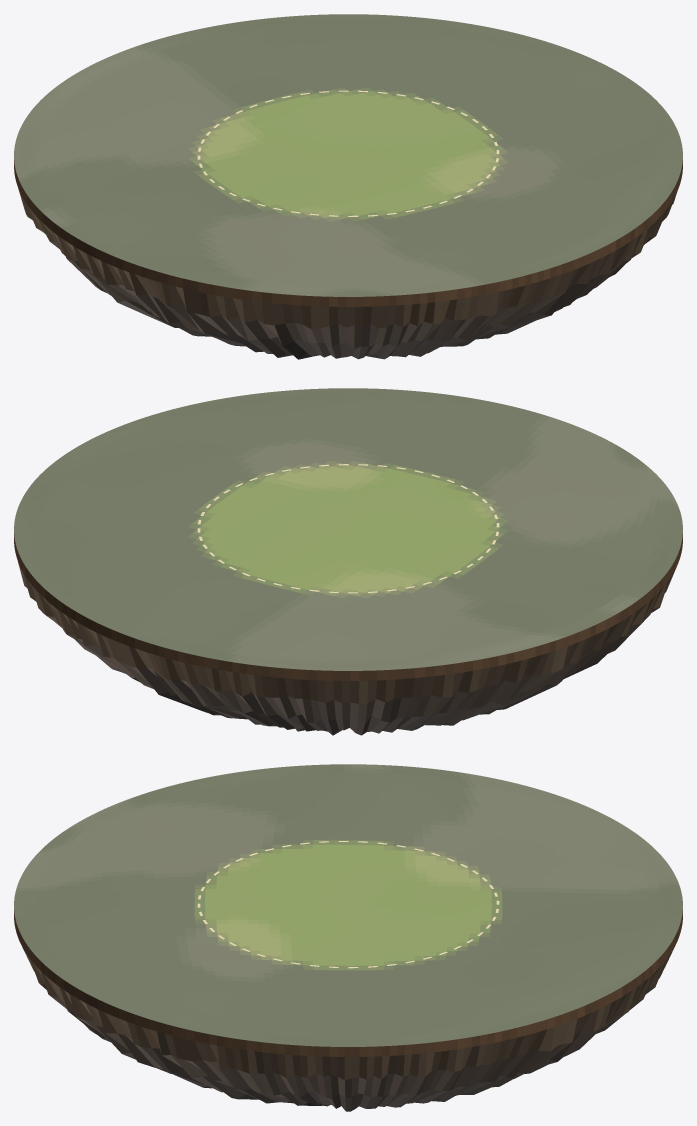
Rendered from flat_meadow.glb.
3 renders of one model, top to bottom at view 1: azimuth 30°, elevation 25°; view 2: azimuth 150°, elevation 25°; view 3: azimuth 270°, elevation 25°, orthographic.
Visible parts, largest first — view 1: TER_Surface, TER_Rock, TER_UnlockBorder; view 2: TER_Surface, TER_Rock, TER_UnlockBorder; view 3: TER_Surface, TER_Rock, TER_UnlockBorder.
Boxes of the visible parts, left/top/right/bottom form: TER_Surface: left=14, top=14, right=682, bottom=296; TER_Rock: left=14, top=160, right=682, bottom=359; TER_UnlockBorder: left=197, top=90, right=499, bottom=216; TER_Surface: left=14, top=388, right=682, bottom=670; TER_Rock: left=14, top=534, right=682, bottom=735; TER_UnlockBorder: left=197, top=464, right=499, bottom=593; TER_Surface: left=14, top=764, right=682, bottom=1046; TER_Rock: left=14, top=910, right=682, bottom=1111; TER_UnlockBorder: left=197, top=841, right=499, bottom=968.
Size of the model in its own units: 15.2 by 4.36 by 15.2.
